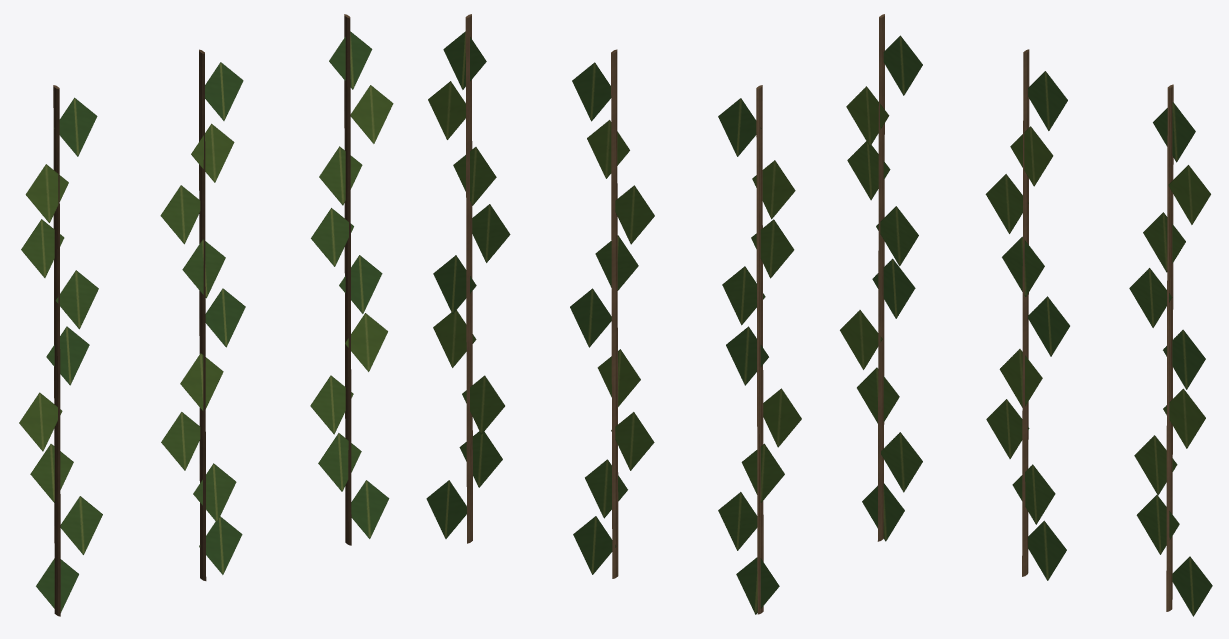
Rendered from Furn_Ivy.fbx.
3 views of the same model, side by side, from view 1: azimuth 30°, elevation 25°; view 2: azimuth 150°, elevation 25°; view 3: azimuth 330°, elevation 25° (orthographic).
Parts seen in each view (by area): view 1: Furn_Ivy_Mesh; view 2: Furn_Ivy_Mesh; view 3: Furn_Ivy_Mesh.
Part boxes in pixels (x1,y1,x2,y2): Furn_Ivy_Mesh: (19,14,393,616); Furn_Ivy_Mesh: (426,14,801,614); Furn_Ivy_Mesh: (840,14,1212,616).
Size of the model in its own units: 3 by 4 by 0.1.
